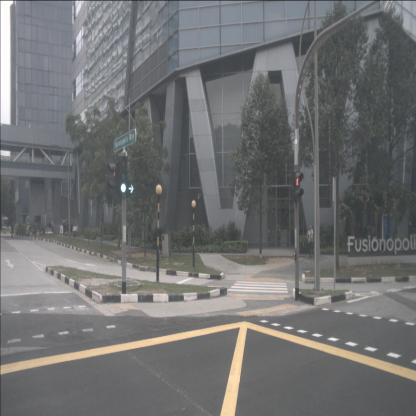human-pedestrian-adult: (307, 224, 315, 258), (26, 222, 30, 238), (70, 221, 73, 237), (63, 221, 66, 237), (66, 221, 69, 236), (11, 222, 14, 237)
